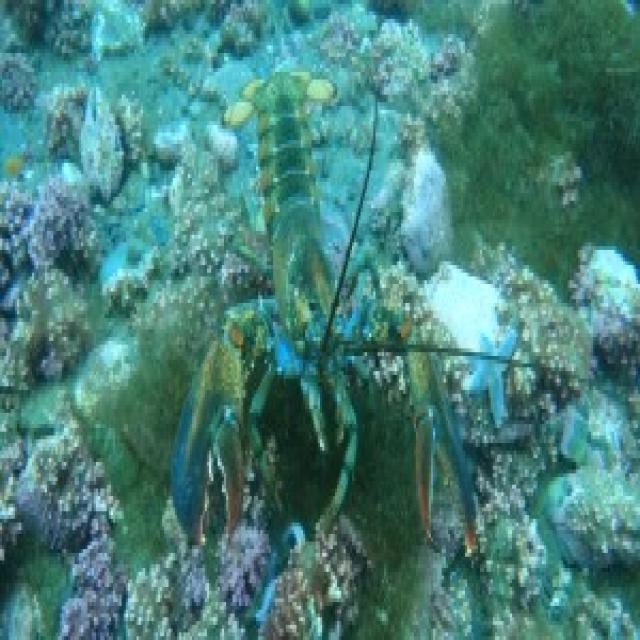lobsters: (158, 0, 484, 606)
